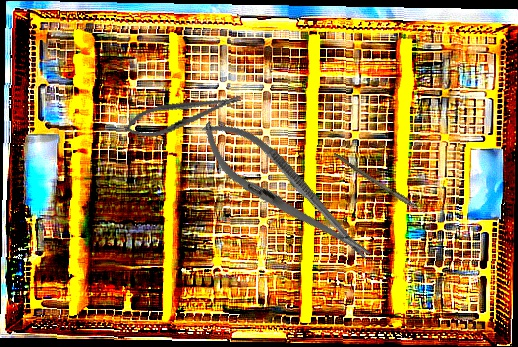Needle Holder: (188, 105, 384, 278), (121, 83, 245, 146)
Surgical Spoon: (331, 152, 441, 224)
